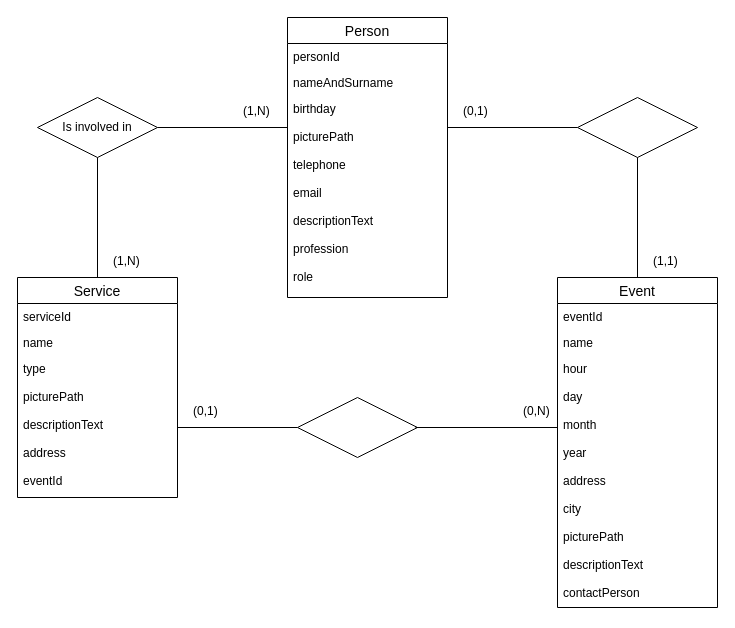
Image size: 735x628. Some labels were removed from this diagram. The shapes that lost their labels are listed below. From the top down, each one's centre as x and y in pixels, then its label:
At (637,127): "Is contact for".
At (357,427): "Presents".
